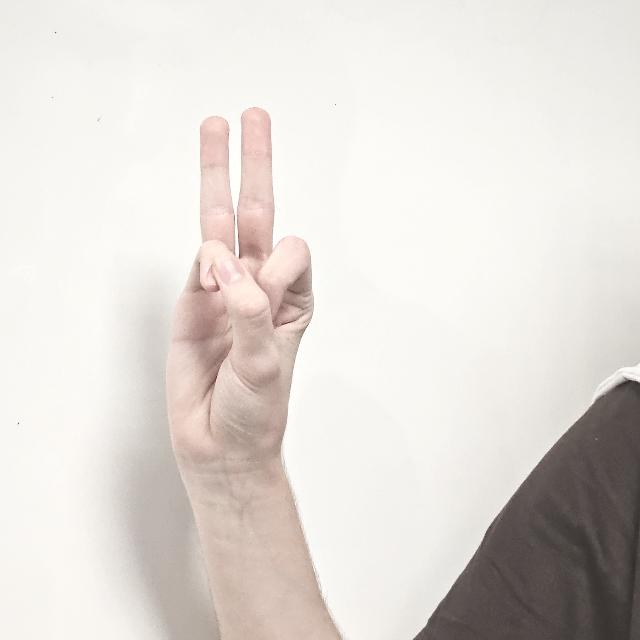R: (159, 106, 313, 504)
